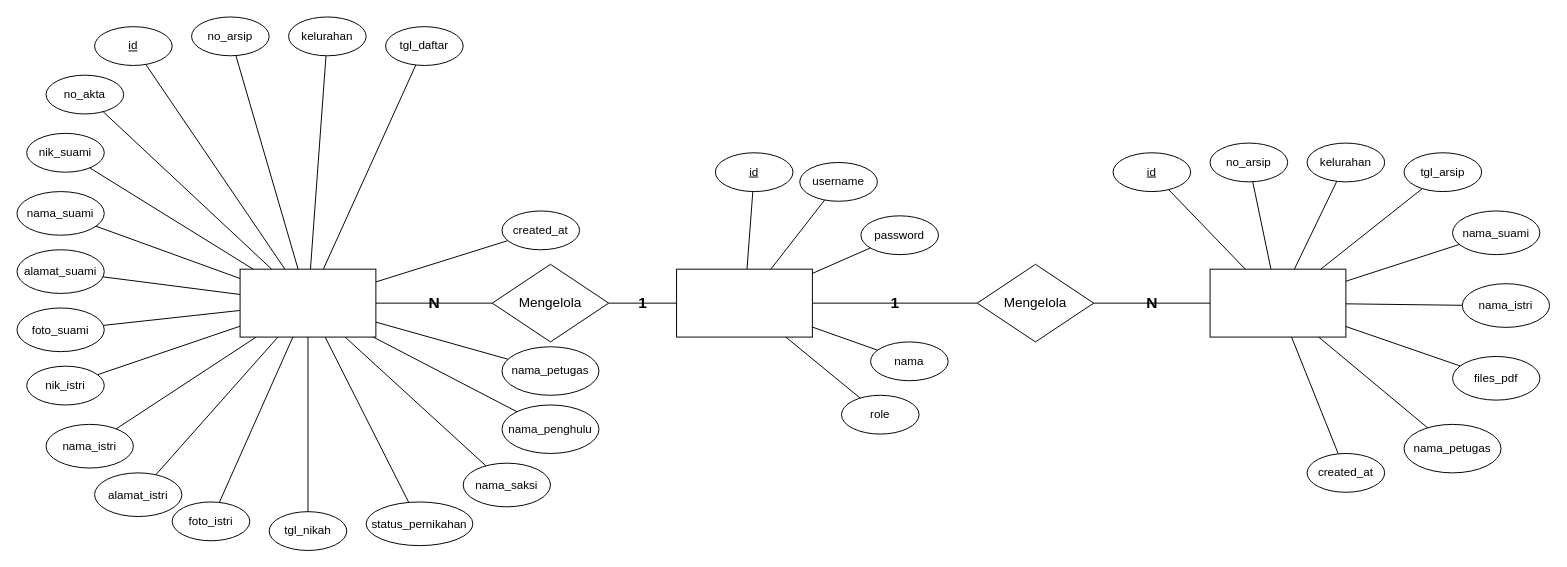
This 1567x567 diagram has some shape labels left out. The shapes that lost their labels are listed below. From the top down, each one's box as (x1, y1, x2, y2) in pixels, then its label:
(239, 268, 376, 337): Arsip
(676, 268, 812, 337): Pengguna
(1209, 268, 1346, 337): Arsip_Scan
